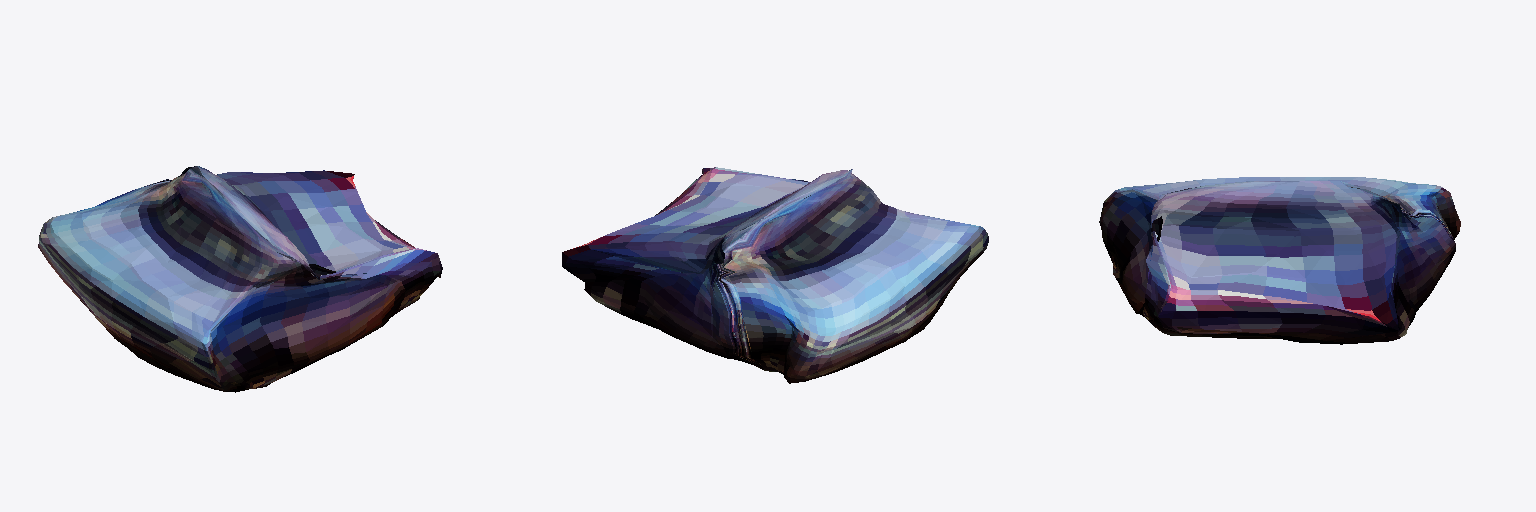
3 renders of one model, left to right at view 1: azimuth 30°, elevation 25°; view 2: azimuth 150°, elevation 25°; view 3: azimuth 270°, elevation 25°, orthographic.
Bounding box in the file's own units: 0.9738 × 0.3894 × 1.
Materials: 1 (1 with a texture image).